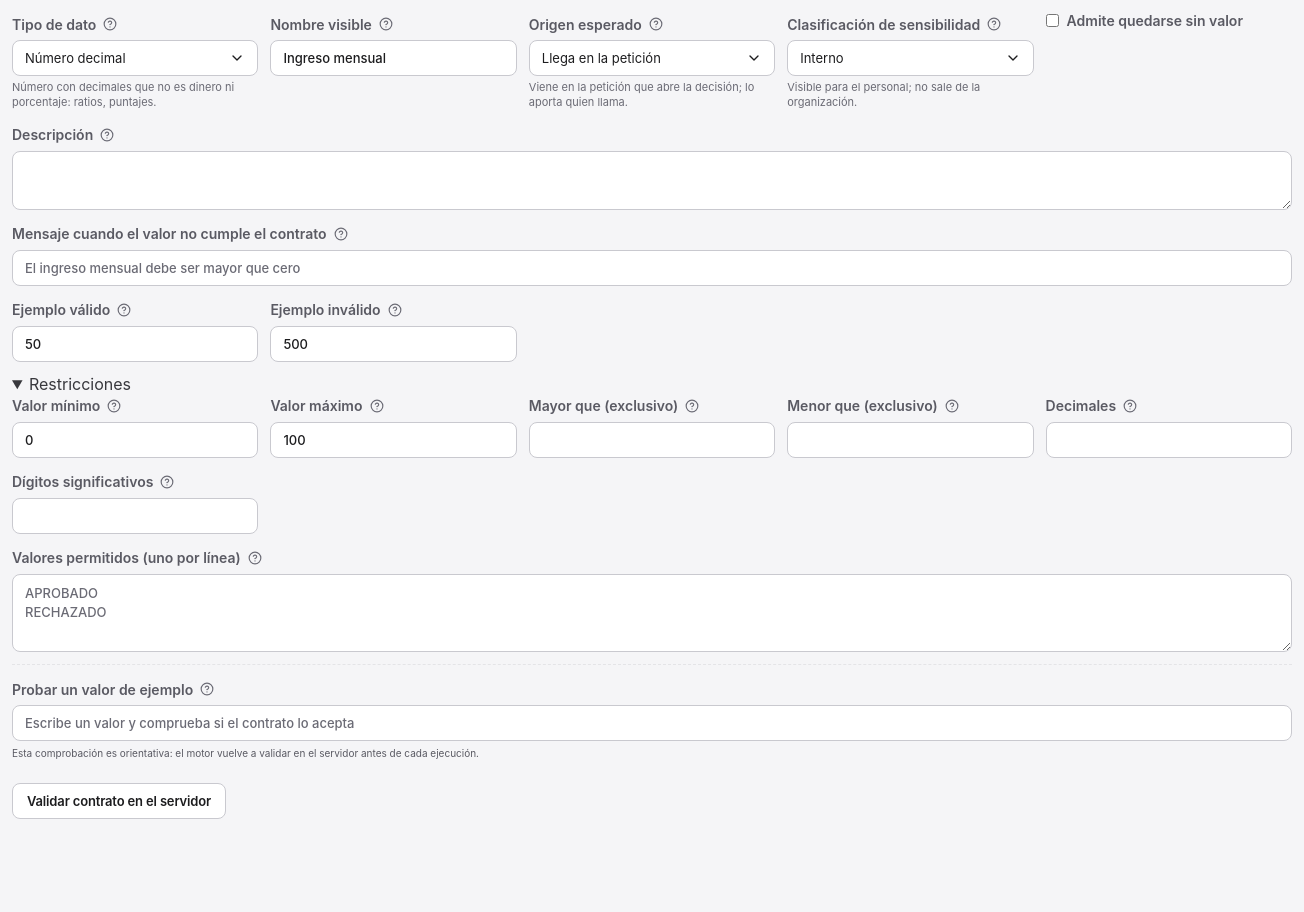
Test: VariableContractEditor › confirma cuando el contrato es coherente
Click the button "Validar contrato en el servidor" at (119, 801), box [12,783,226,819]
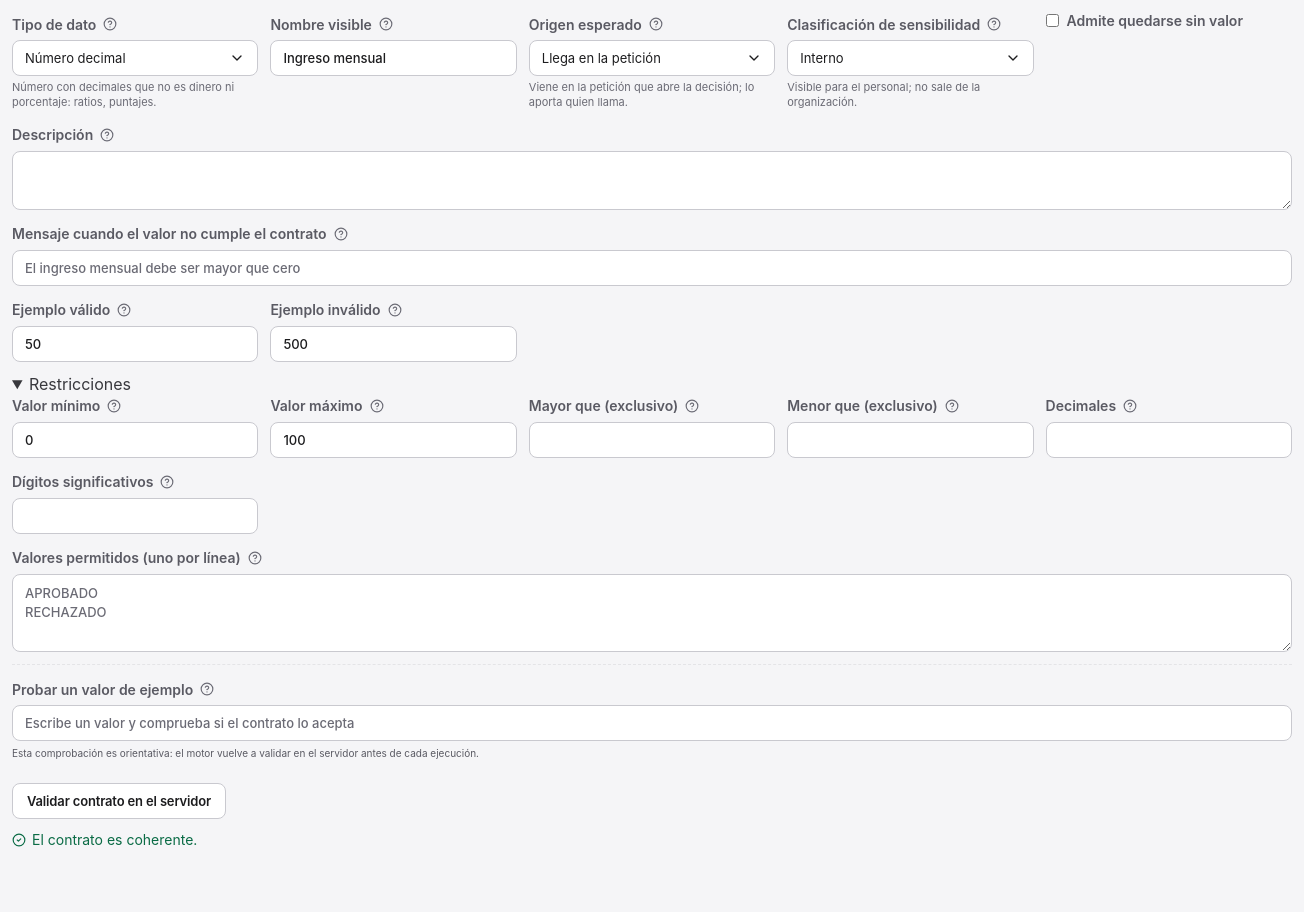
Result: the text "El contrato es coherente." is shown at [12,831,197,848]
